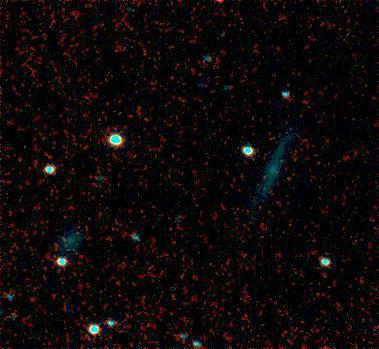star: (274, 166, 304, 196)
